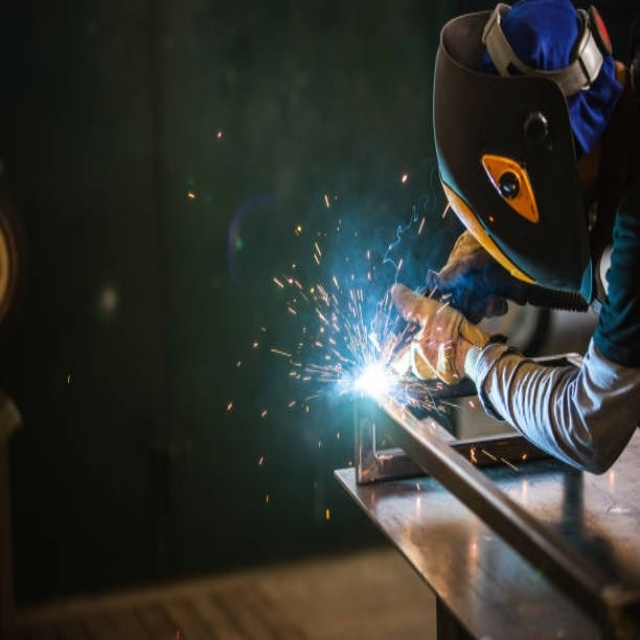Guantes: (388, 284, 492, 388)
